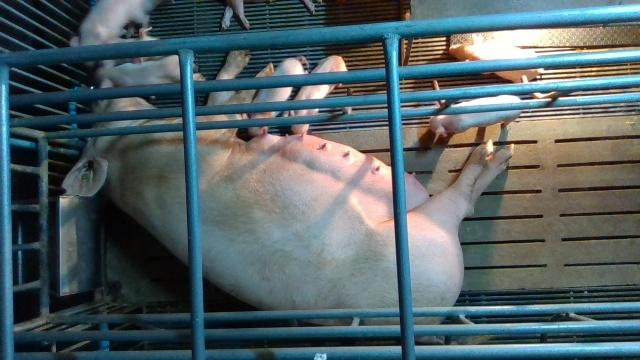piglet: (242, 56, 309, 136), (289, 54, 348, 135), (430, 94, 521, 144), (68, 0, 163, 47), (449, 42, 544, 83), (96, 54, 205, 89)
sow-sleep-lactate: (62, 47, 513, 326)
